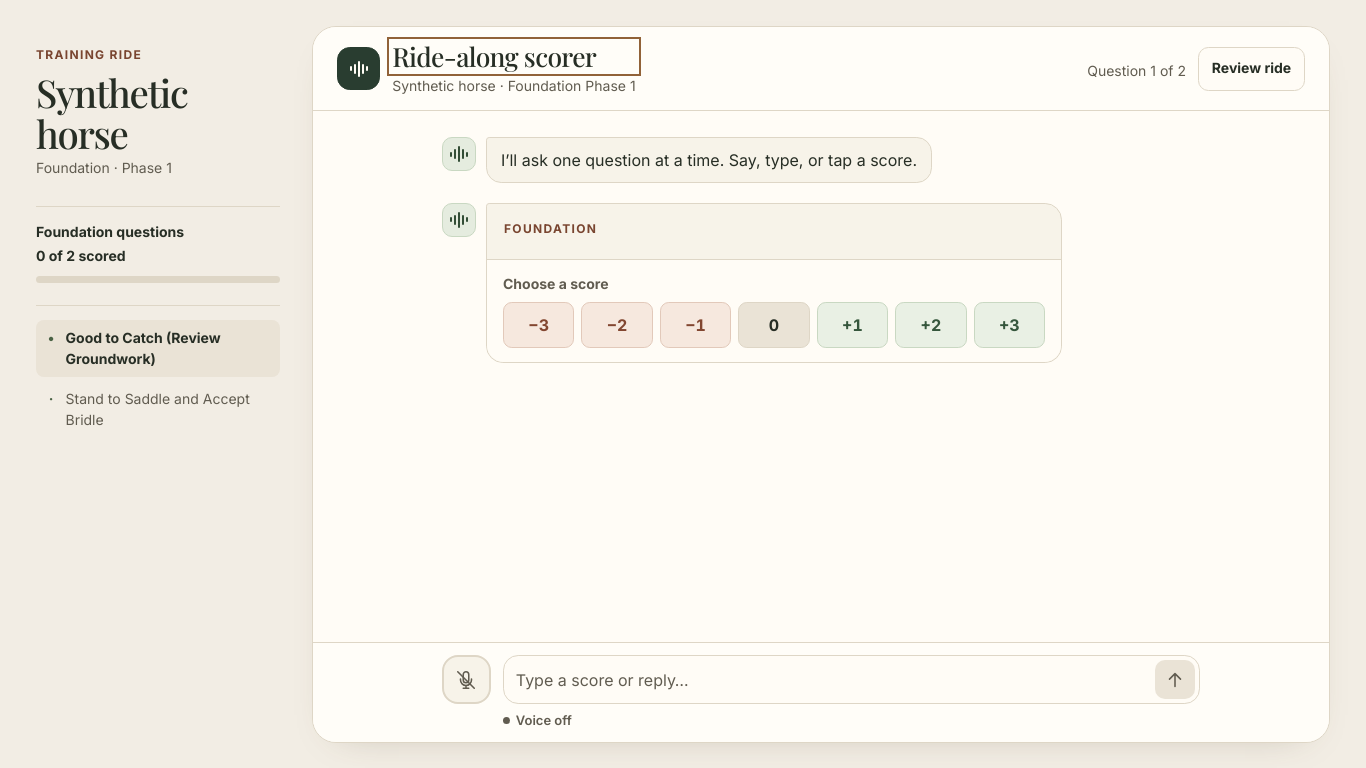
Test: records a tapped score once and advances only when the durable draft changes
Later steps or results of the test are not shown.
Step 1. Click the button named "Record minus three" → (539, 325), box 503,302 -> 574,348
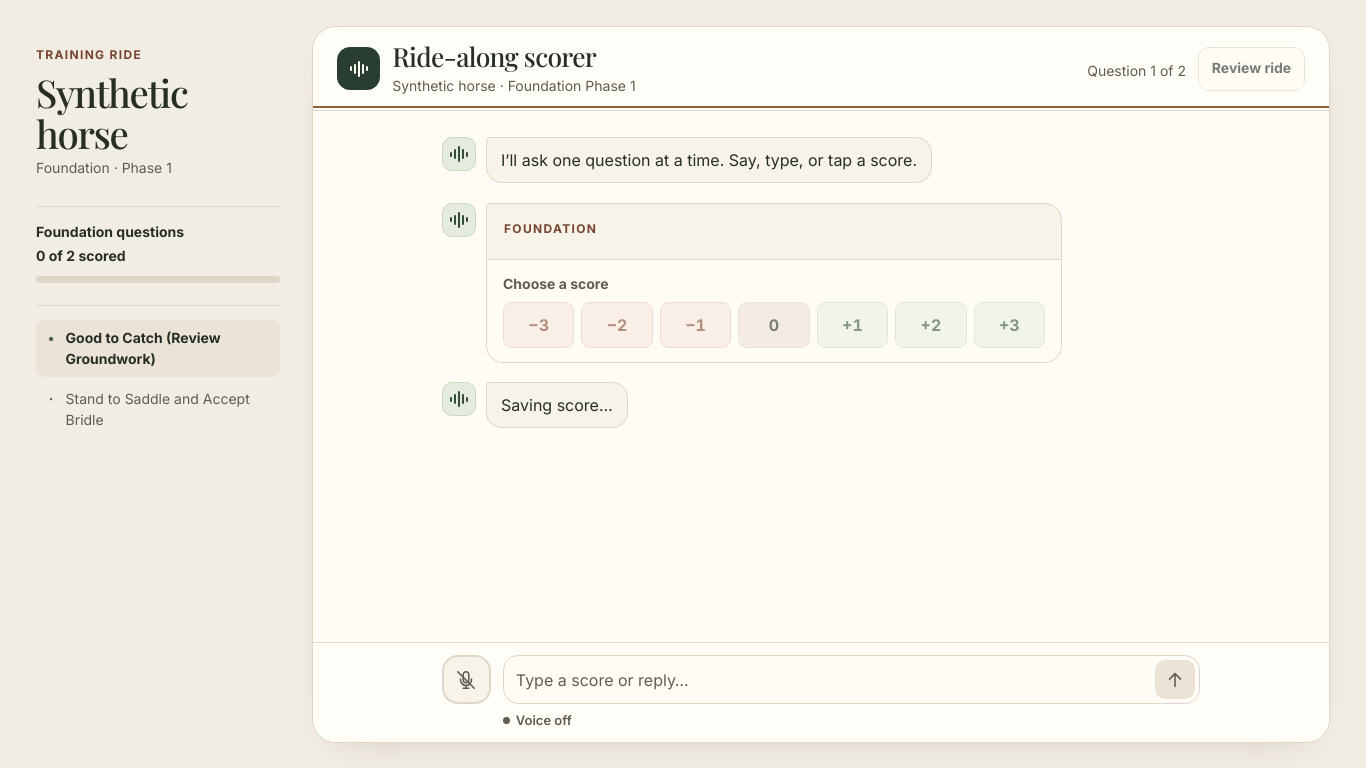
Step 2. Click the button named "Record minus three" → (539, 325), box 503,302 -> 574,348
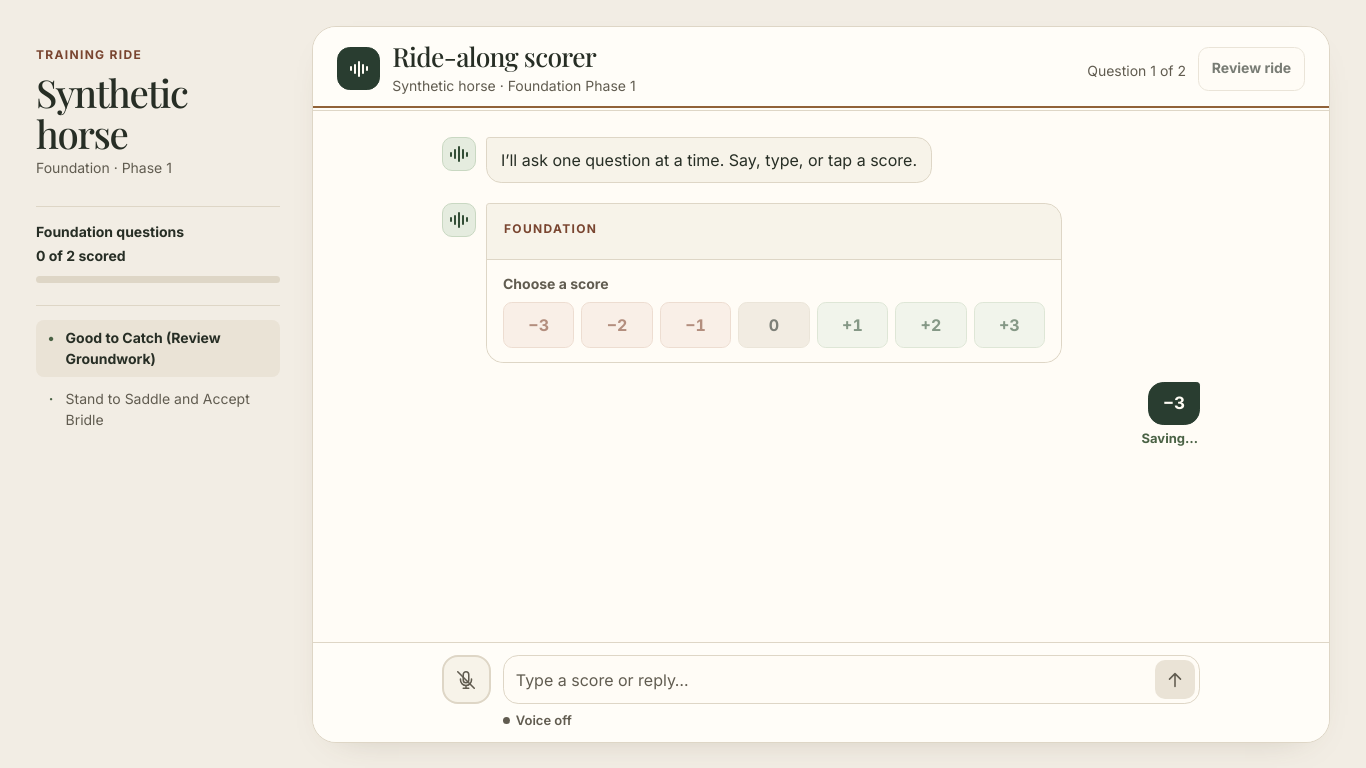
Expected: the text "Question 1 of 2" is shown, 1087,60 -> 1186,81
Now the text "−3" is shown, box 1163,393 -> 1185,413
